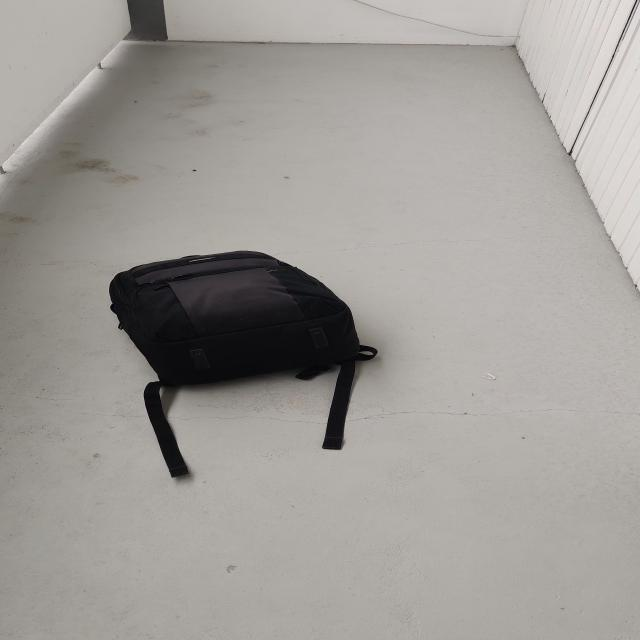backpack: (96, 246, 372, 396)
